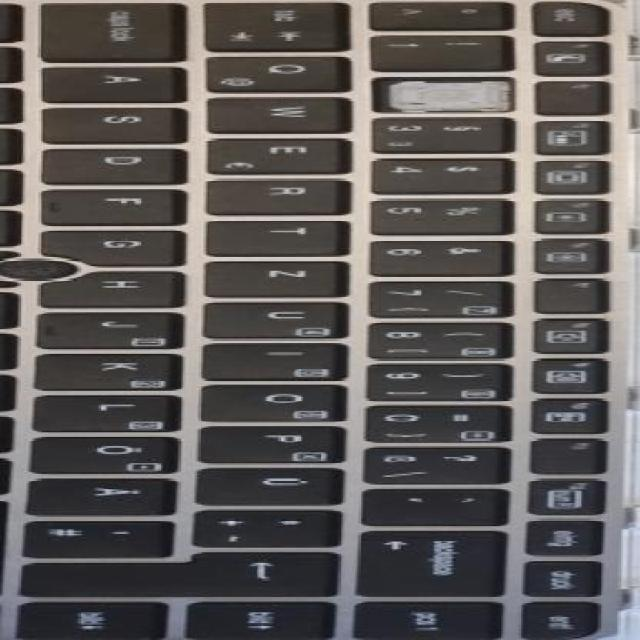Keyboard problems: (378, 78, 514, 111)
